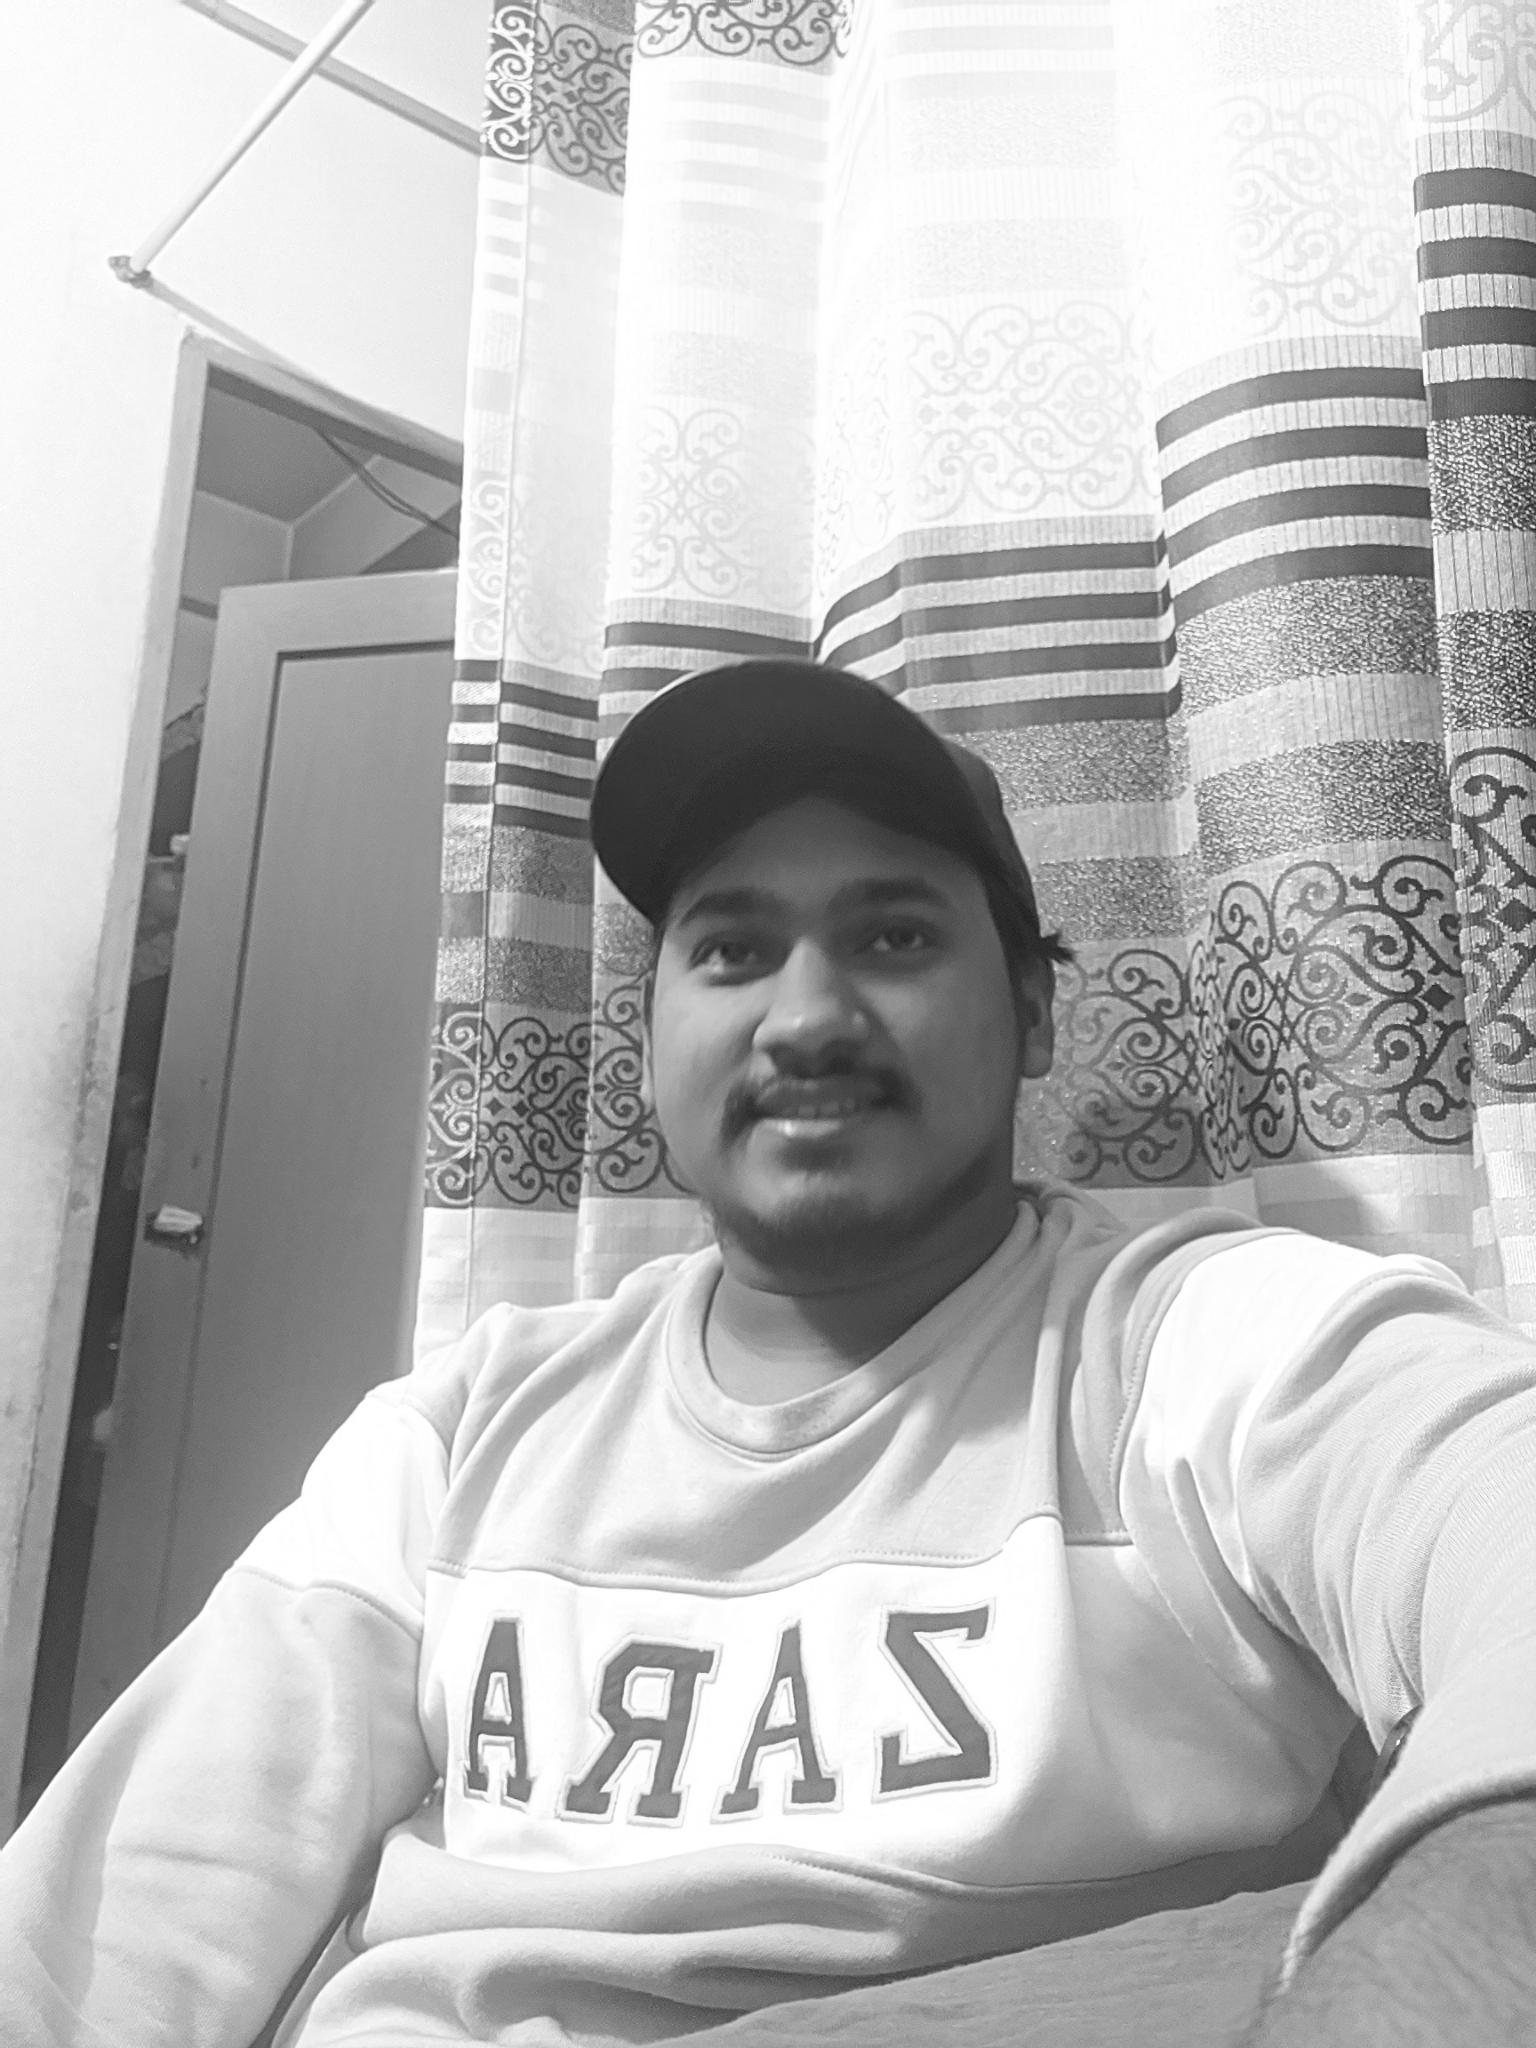Happy: (628, 850, 994, 1255)
